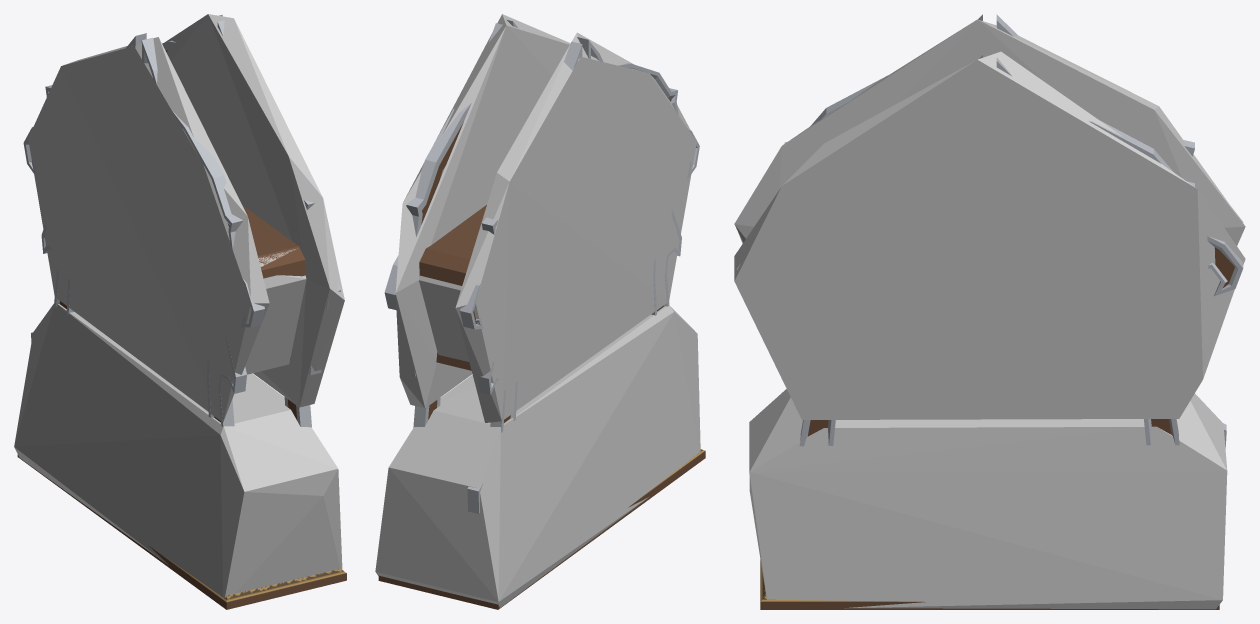
Rendered from SM_Prop_Shelf_01.fbx.
3 views of the same model, side by side, from view 1: azimuth 30°, elevation 25°; view 2: azimuth 150°, elevation 25°; view 3: azimuth 270°, elevation 25° (orthographic). The views are drawn at different scales.
Parts seen in each view (by area): view 1: SM_Prop_Shelf_01_ConvexHulls, SM_Prop_Shelf_01; view 2: SM_Prop_Shelf_01_ConvexHulls, SM_Prop_Shelf_01; view 3: SM_Prop_Shelf_01_ConvexHulls, SM_Prop_Shelf_01.
Part boxes in pixels (x1,y1,x2,y2): SM_Prop_Shelf_01_ConvexHulls: [14, 14, 344, 597]; SM_Prop_Shelf_01: [17, 14, 346, 609]; SM_Prop_Shelf_01_ConvexHulls: [375, 14, 700, 607]; SM_Prop_Shelf_01: [378, 19, 705, 609]; SM_Prop_Shelf_01_ConvexHulls: [734, 19, 1245, 609]; SM_Prop_Shelf_01: [736, 14, 1243, 609].
Bounding box in the file's own units: 74.71 × 242 × 284.
Materials: 2 (1 with a texture image).
